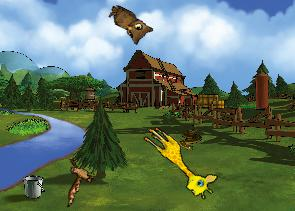eagle: (55, 153, 101, 207)
giraffe: (134, 122, 222, 203)
owl: (101, 3, 155, 48)
